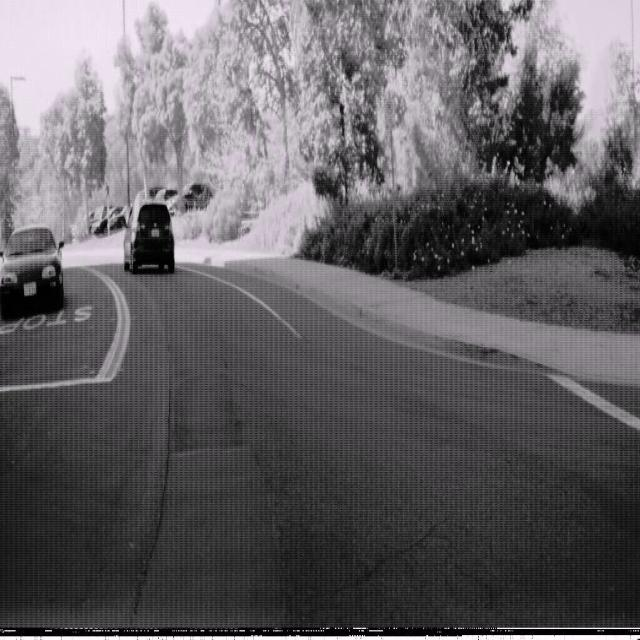pedestrianCrossing: (98, 173, 116, 207)
